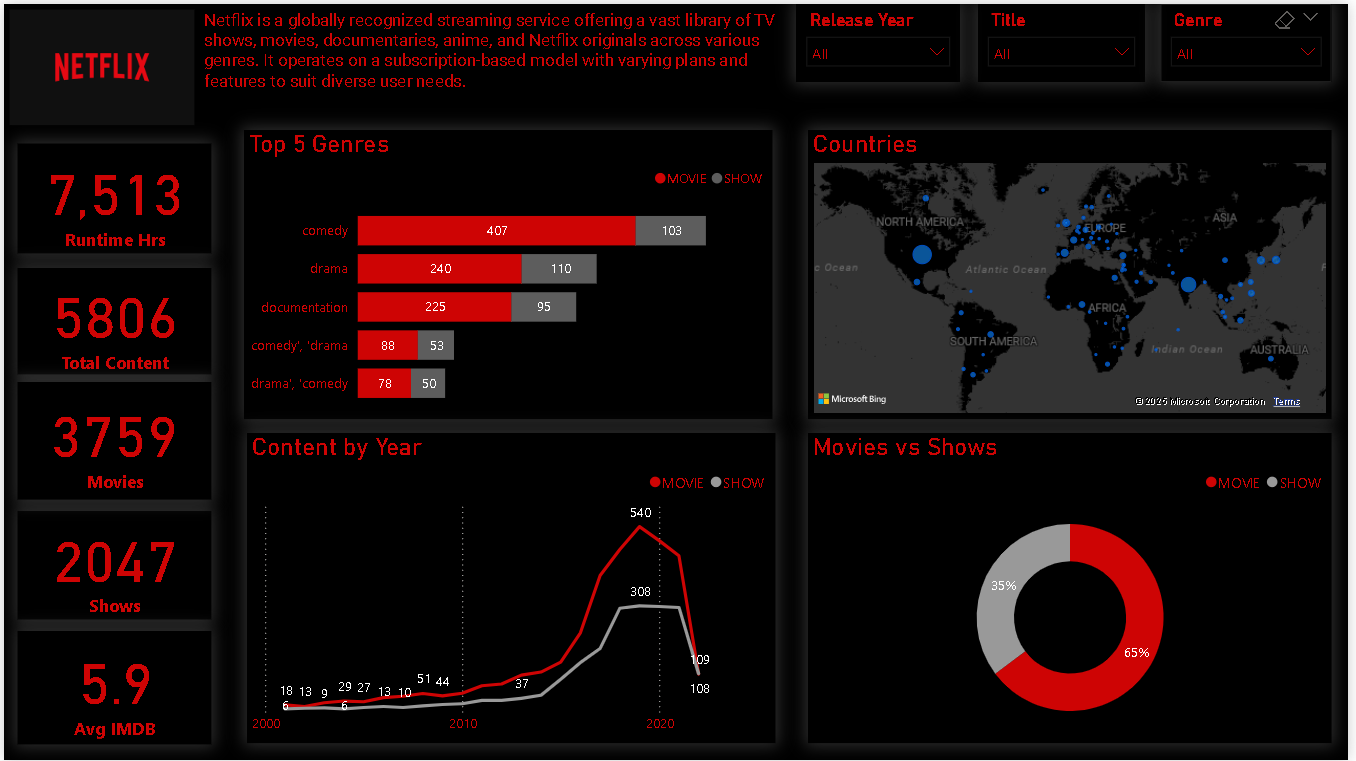

This screenshot's page, from the dashboard's own definition file:
{"tool":"powerbi","page":{"name":"Page 1","canvas":[1280,720],"ordinal":0},"visuals":[{"type":"card","fields":{"Values":["credits.Runtime Hrs"]},"box":[12.3,132.3,184.6,104.6],"z":0},{"type":"card","fields":{"Values":["credits.Shows"]},"box":[12.3,483.1,184.6,103.1],"z":1000},{"type":"card","fields":{"Values":["credits.Avg IMDB"]},"box":[12.3,596.9,184.6,107.7],"z":2000},{"type":"card","fields":{"Values":["credits.Total Content"]},"box":[12.3,250.8,184.6,101.5],"z":3000},{"type":"card","fields":{"Values":["credits.Movies"]},"box":[12.3,360,184.6,112.3],"z":4000},{"type":"barChart","title":"Top 5 Genres","fields":{"Category":["titles.genres"],"Y":["All Measures.Total Content"],"Series":["titles.type"]},"box":[229.2,120,503.1,275.4],"z":5000},{"type":"lineChart","title":"Content by Year","fields":{"Category":["titles.release_year"],"Y":["All Measures.Total Content"],"Series":["titles.type"]},"box":[230.8,409.2,503.1,295.4],"z":6000},{"type":"map","title":"Countries","fields":{"Category":["titles.production_countries"],"Size":["All Measures.Runtime Hrs"]},"box":[766.2,120,498.5,275.4],"z":7000},{"type":"donutChart","title":"Movies vs Shows","fields":{"Category":["titles.type"],"Y":["All Measures.Total Content"]},"box":[766.2,409.2,498.5,295.4],"z":8000},{"type":"image","box":[0,0,186.2,120],"z":9000},{"type":"slicer","fields":{"Values":["titles.release_year"]},"box":[753.8,0,156.9,73.8],"z":10000},{"type":"slicer","fields":{"Values":["titles.title"]},"box":[927.7,0,160,73.8],"z":11000},{"type":"slicer","fields":{"Values":["titles.genres"]},"box":[1101.5,0,163.1,73.8],"z":12000},{"type":"textbox","box":[186.2,0,567.7,120],"z":13000}]}

Visuals, with their boxes in screenshot pixels (x1, y1, x2, y2), scaled from the page's 1280x720 canvas onto the 1356x761 screenshot:
card - credits.Runtime Hrs: crop(13, 140, 209, 250)
card - credits.Shows: crop(13, 511, 209, 620)
card - credits.Avg IMDB: crop(13, 631, 209, 745)
card - credits.Total Content: crop(13, 265, 209, 372)
card - credits.Movies: crop(13, 380, 209, 499)
"Top 5 Genres" barChart: crop(243, 127, 776, 418)
"Content by Year" lineChart: crop(245, 433, 777, 745)
"Countries" map: crop(812, 127, 1340, 418)
"Movies vs Shows" donutChart: crop(812, 433, 1340, 745)
image: crop(0, 0, 197, 127)
slicer - titles.release_year: crop(799, 0, 965, 78)
slicer - titles.title: crop(983, 0, 1152, 78)
slicer - titles.genres: crop(1167, 0, 1340, 78)
textbox: crop(197, 0, 799, 127)
